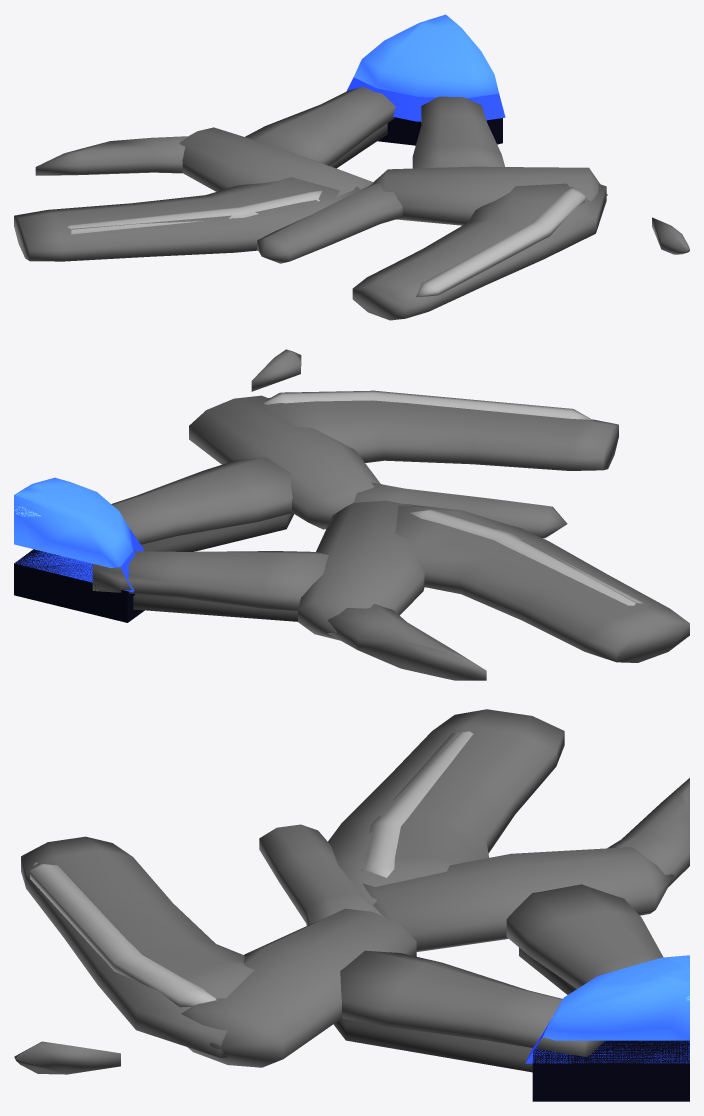
The model's file is newsh-hash-195-f2.glb.
3 views of the same model, one above another, from view 1: azimuth 30°, elevation 25°; view 2: azimuth 150°, elevation 25°; view 3: azimuth 270°, elevation 25° (orthographic). The views are drawn at different scales.
Parts seen in each view (by area): view 1: newsh-hash-195-f2; view 2: newsh-hash-195-f2; view 3: newsh-hash-195-f2.
Boxes of the visible parts, bbox=[...] form: newsh-hash-195-f2: bbox=[14, 14, 689, 320]; newsh-hash-195-f2: bbox=[14, 349, 689, 680]; newsh-hash-195-f2: bbox=[14, 709, 689, 1101].
Size of the model in its own units: 1.9 by 0.3156 by 1.61.
